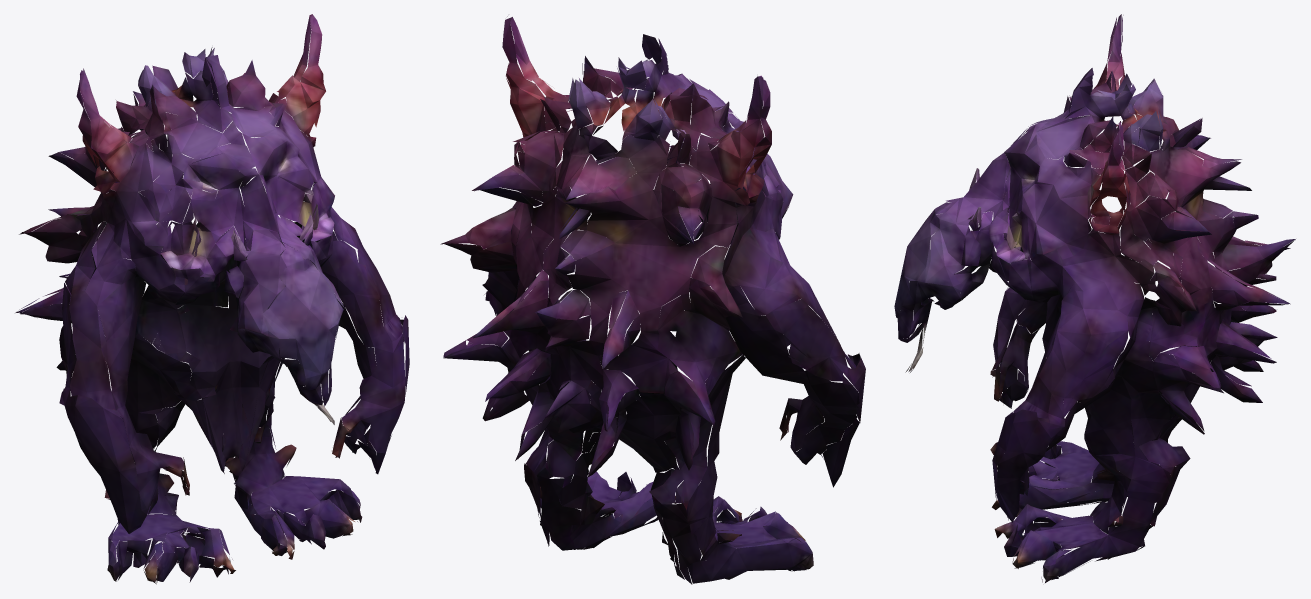
3 renders of one model, left to right at view 1: azimuth 30°, elevation 25°; view 2: azimuth 150°, elevation 25°; view 3: azimuth 270°, elevation 25°, orthographic. The views are drawn at different scales.
Parts seen in each view (by area): view 1: world; view 2: world; view 3: world.
Boxes of the visible parts, box(x1,y1,x2,y2) form: world: box(15, 14, 409, 584); world: box(440, 16, 865, 584); world: box(894, 14, 1295, 582).
Size of the model in its own units: 0.7369 by 1.01 by 0.7929.
1 material, 1 textured.
